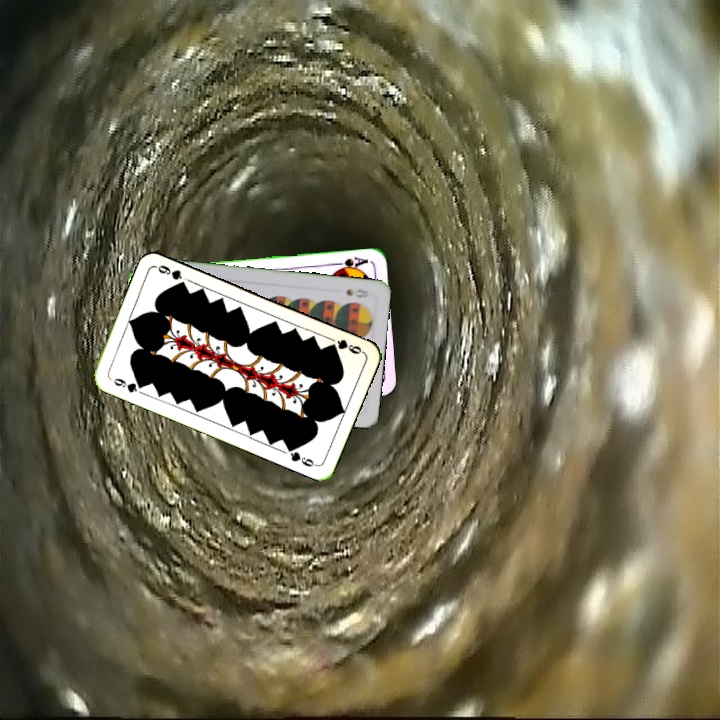G9: (324, 335, 366, 357), (106, 374, 147, 395)
S8: (342, 285, 371, 300)
SA: (330, 252, 371, 274)
